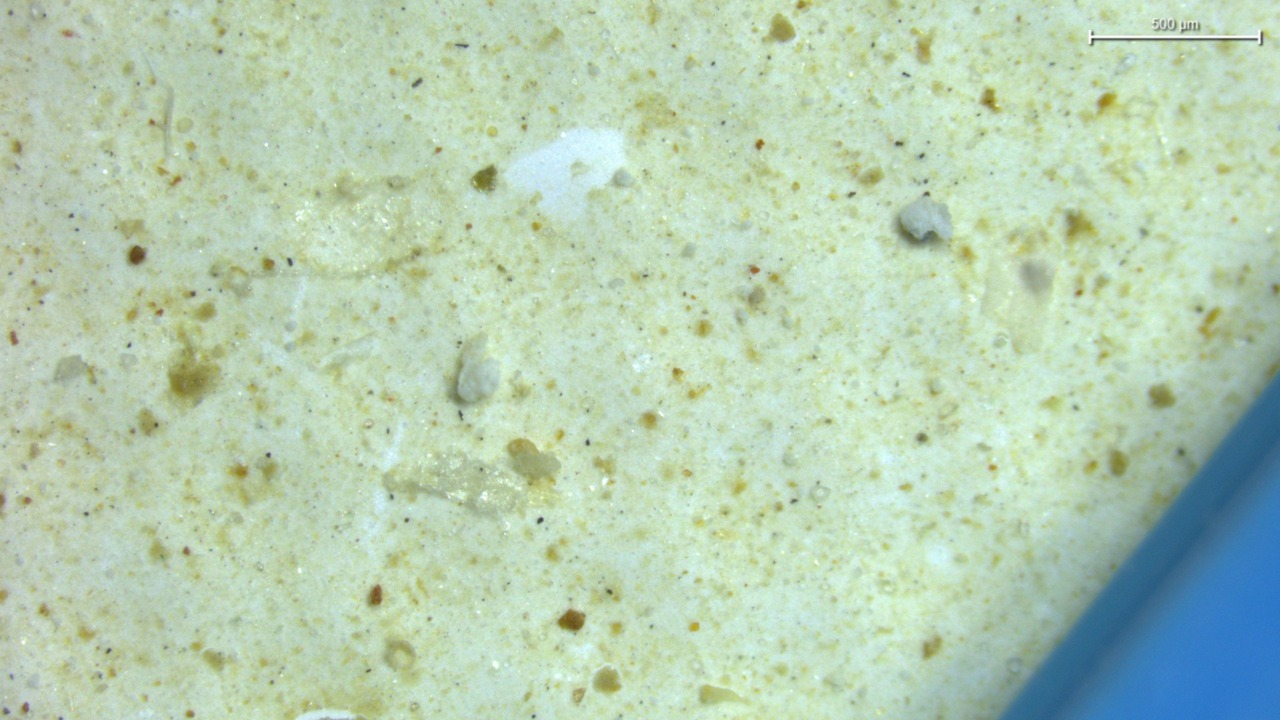microplastic_fragment: (383, 454, 524, 514), (456, 333, 501, 403), (899, 193, 952, 241)
